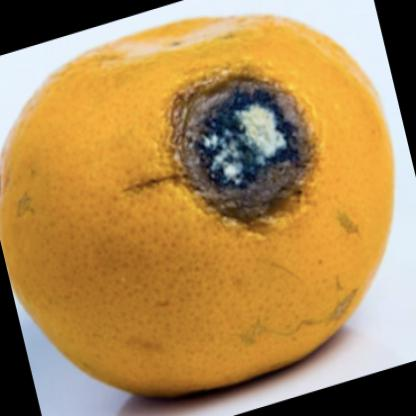rotten_orange: (1, 5, 395, 413)
